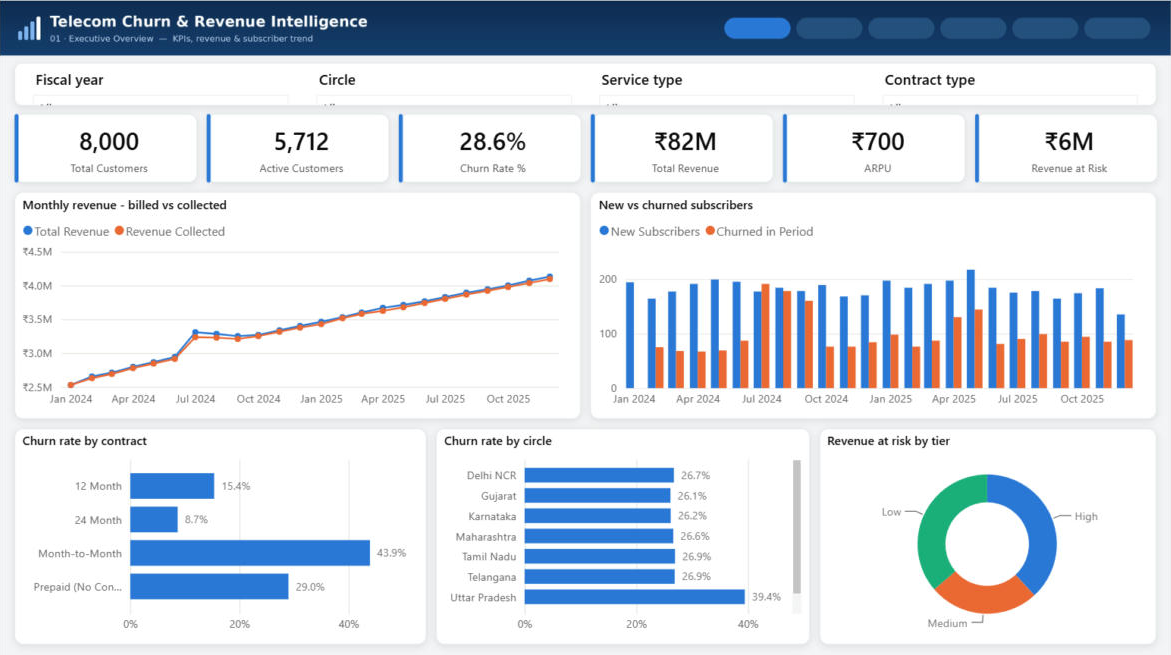

The dashboard page shown, as its layout file describes it:
{"tool":"powerbi","page":{"name":"Executive Overview","canvas":[1280,720],"ordinal":0},"visuals":[{"type":"slicer","fields":{"Values":["dim_date.fiscal_year"]},"box":[26,69,299.5,44.7],"z":0},{"type":"slicer","fields":{"Values":["dim_geography.circle"]},"box":[335.5,69,299.5,44.7],"z":1000},{"type":"slicer","fields":{"Values":["dim_customer.service_type"]},"box":[645,69,299.5,44.7],"z":2000},{"type":"slicer","fields":{"Values":["dim_customer.contract_type"]},"box":[954.5,69,299.5,44.7],"z":3000},{"type":"card","fields":{"Values":["_Measures.Total Customers"]},"box":[28,128,183.3,66.7],"z":4000},{"type":"card","fields":{"Values":["_Measures.Active Customers"]},"box":[238,128,183.3,66.7],"z":5000},{"type":"card","fields":{"Values":["_Measures.Churn Rate %"]},"box":[448,128,183.3,66.7],"z":6000},{"type":"card","fields":{"Values":["_Measures.Total Revenue"]},"box":[658,128,183.3,66.7],"z":7000},{"type":"card","fields":{"Values":["_Measures.ARPU"]},"box":[868,128,183.3,66.7],"z":8000},{"type":"card","fields":{"Values":["_Measures.Revenue at Risk"]},"box":[1078,128,183.3,66.7],"z":9000},{"type":"lineChart","title":"Monthly revenue - billed vs collected","fields":{"Category":["dim_date.month_start"],"Y":["_Measures.Total Revenue","_Measures.Revenue Collected"]},"box":[20,213.3,610.7,240],"z":10000},{"type":"clusteredColumnChart","title":"New vs churned subscribers","fields":{"Category":["dim_date.month_start"],"Y":["_Measures.New Subscribers","_Measures.Churned in Period"]},"box":[649.3,213.3,610.7,240],"z":11000},{"type":"clusteredBarChart","title":"Churn rate by contract","fields":{"Category":["dim_customer.contract_type"],"Y":["_Measures.Churn Rate %"]},"box":[20,472,442,228],"z":12000},{"type":"clusteredBarChart","title":"Churn rate by circle","fields":{"Category":["dim_geography.circle"],"Y":["_Measures.Churn Rate %"]},"box":[480.7,472,400.7,228],"z":13000},{"type":"donutChart","title":"Revenue at risk by tier","fields":{"Category":["fact_churn_predictions.risk_tier"],"Y":["_Measures.Revenue at Risk"]},"box":[900,472,360,228],"z":14000}]}

Visuals, with their boxes in screenshot pixels (x1, y1, x2, y2), scaled from the page's 1280x720 canvas onto the 1171x655 screenshot:
slicer - dim_date.fiscal_year: bbox(24, 63, 298, 103)
slicer - dim_geography.circle: bbox(307, 63, 581, 103)
slicer - dim_customer.service_type: bbox(590, 63, 864, 103)
slicer - dim_customer.contract_type: bbox(873, 63, 1147, 103)
card - _Measures.Total Customers: bbox(26, 116, 193, 177)
card - _Measures.Active Customers: bbox(218, 116, 385, 177)
card - _Measures.Churn Rate %: bbox(410, 116, 578, 177)
card - _Measures.Total Revenue: bbox(602, 116, 770, 177)
card - _Measures.ARPU: bbox(794, 116, 962, 177)
card - _Measures.Revenue at Risk: bbox(986, 116, 1154, 177)
"Monthly revenue - billed vs collected" lineChart: bbox(18, 194, 577, 412)
"New vs churned subscribers" clusteredColumnChart: bbox(594, 194, 1153, 412)
"Churn rate by contract" clusteredBarChart: bbox(18, 429, 423, 637)
"Churn rate by circle" clusteredBarChart: bbox(440, 429, 806, 637)
"Revenue at risk by tier" donutChart: bbox(823, 429, 1153, 637)
